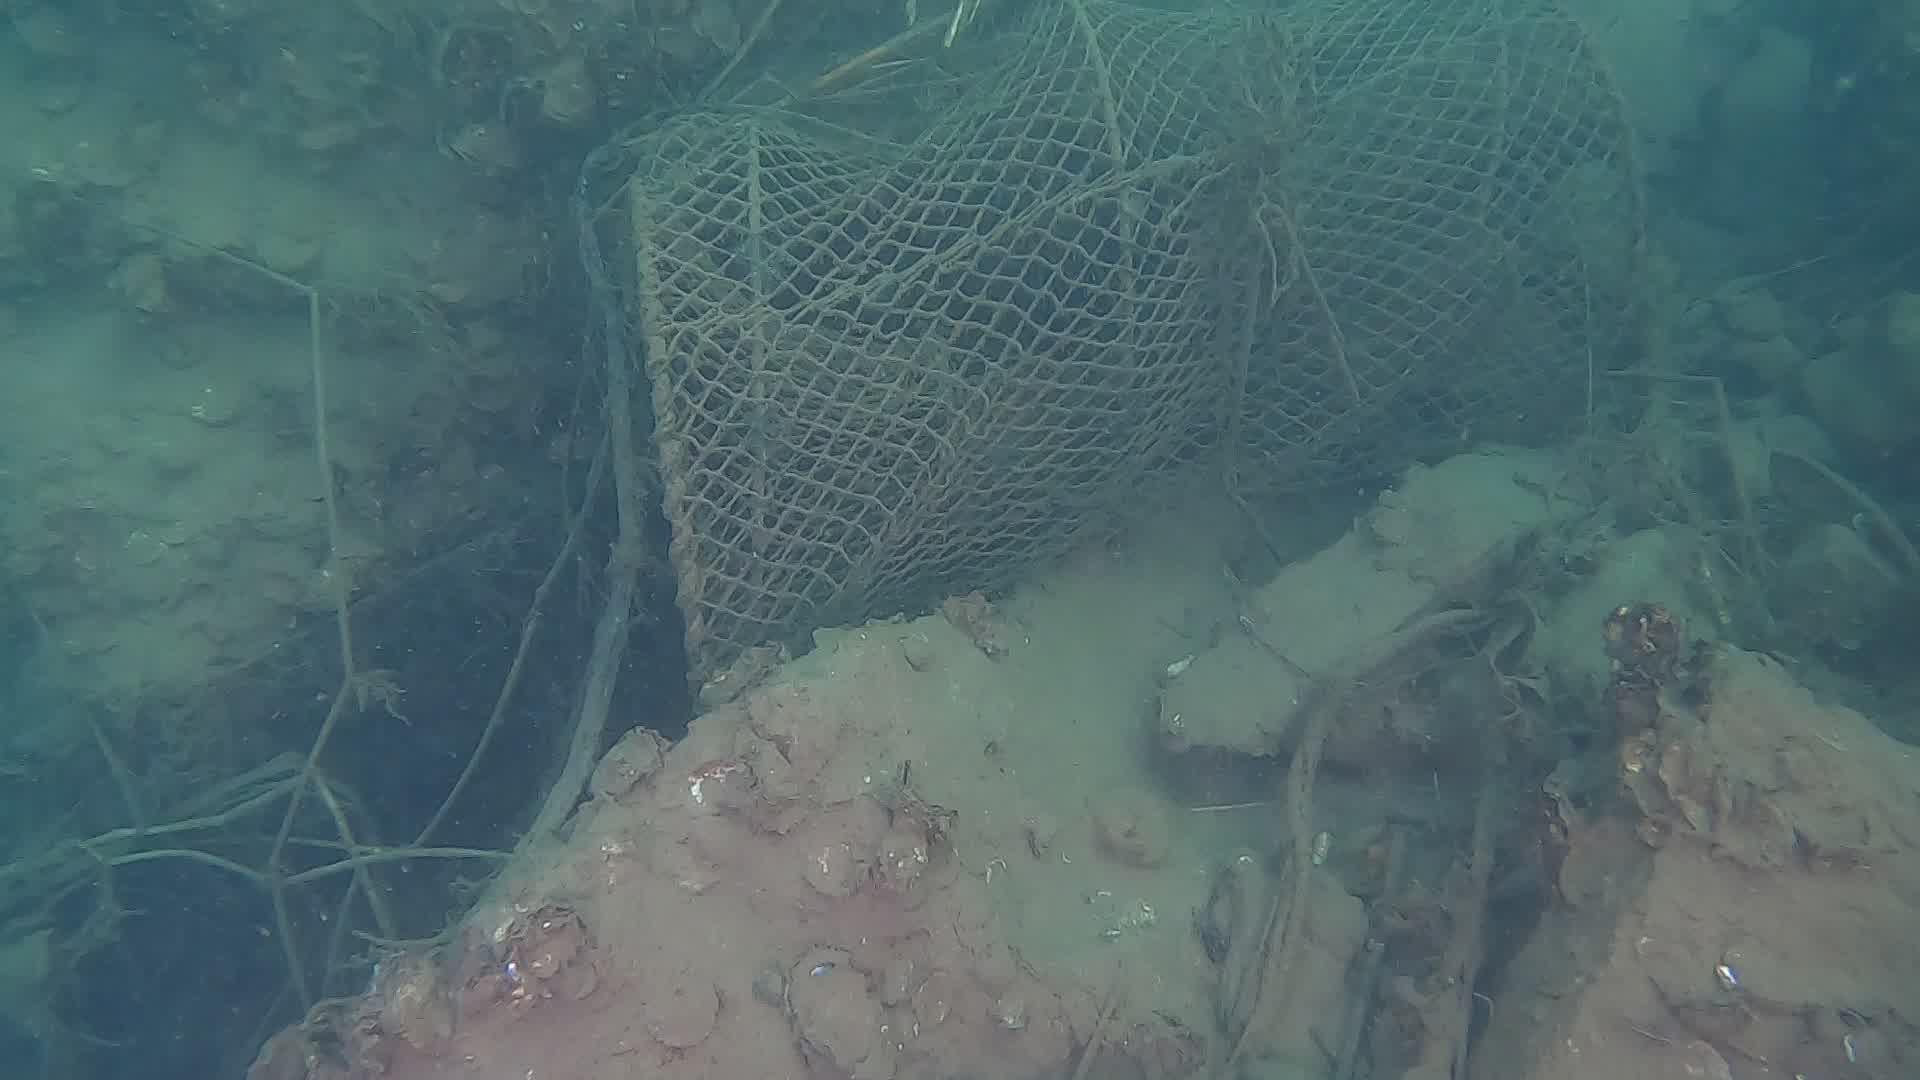spring fish trap: (626, 0, 1648, 707)
